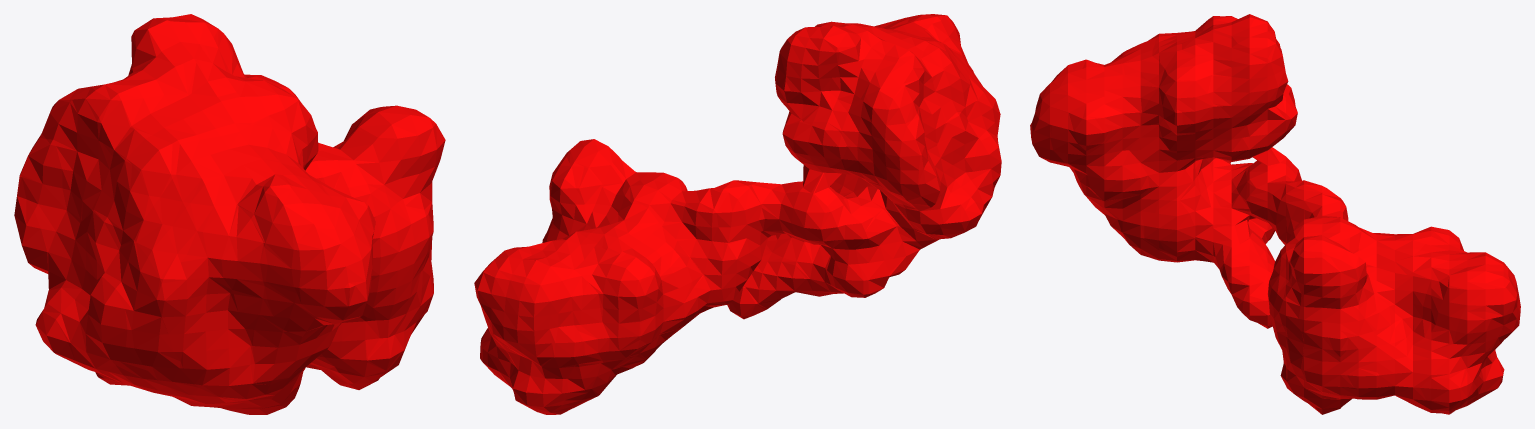
The model's file is gsiA_coarse.dae.
The picture shows the model from 3 angles, left to right: view 1: azimuth 30°, elevation 25°; view 2: azimuth 150°, elevation 25°; view 3: azimuth 270°, elevation 25°; orthographic projection. The views are drawn at different scales.
Parts seen in each view (by area): view 1: gsiA; view 2: gsiA; view 3: gsiA.
Part boxes in pixels (bbox=[...]): gsiA: bbox=[14, 14, 445, 414]; gsiA: bbox=[474, 14, 1001, 414]; gsiA: bbox=[1030, 14, 1520, 414].
Size of the model in its own units: 85.5 by 78.13 by 111.
